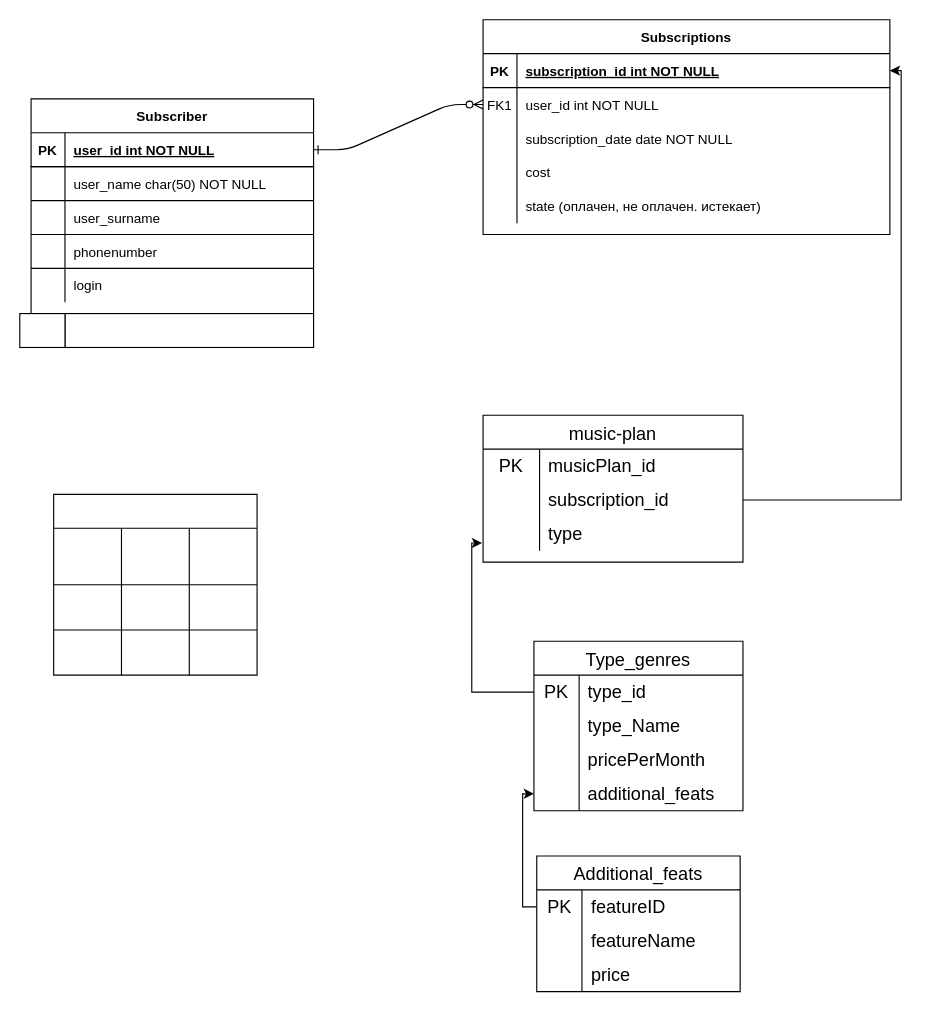
This 930x1011 diagram has some shape labels left out. Each missing label, with the centre of its shape:
"Artists" goes at point 155,584.
"password" goes at point 189,329.
